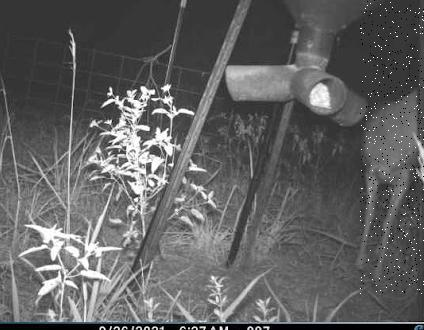Deer: (360, 0, 424, 294)
